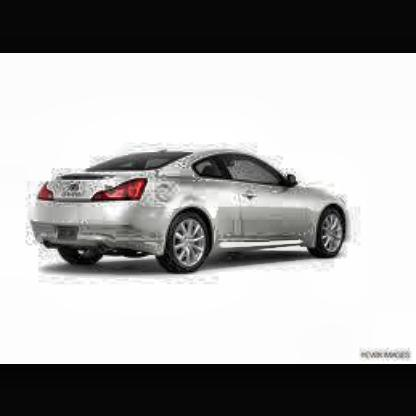Infiniti G Coupe IPL 2012: (30, 143, 359, 281)
